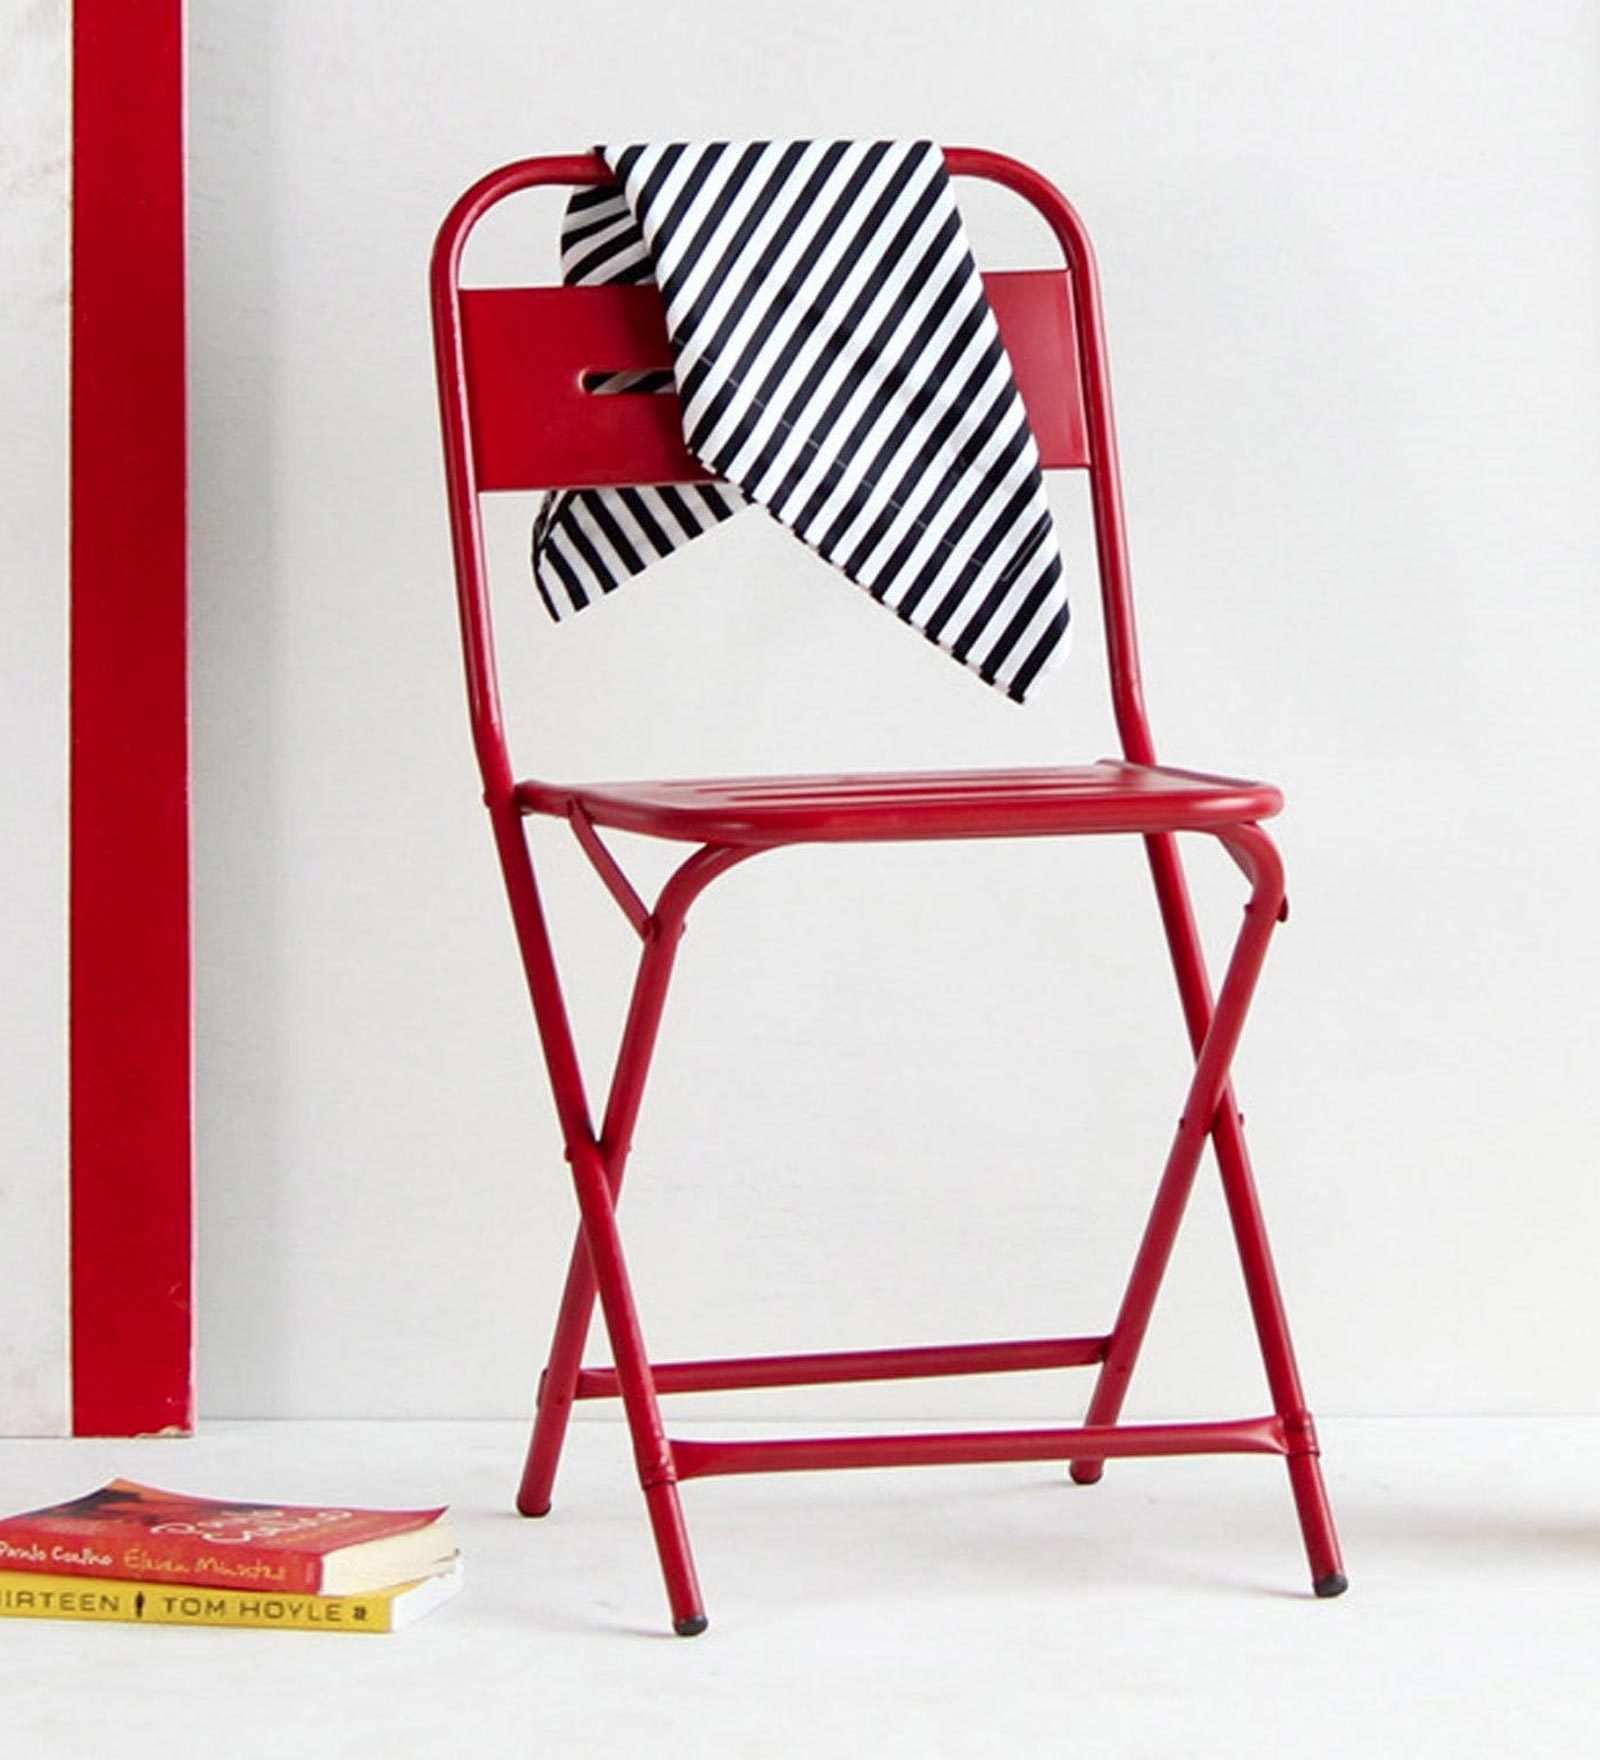Marandoo Grunge Red Outdoor Folding Chair by Bohemiana: (418, 143, 1393, 1645)
